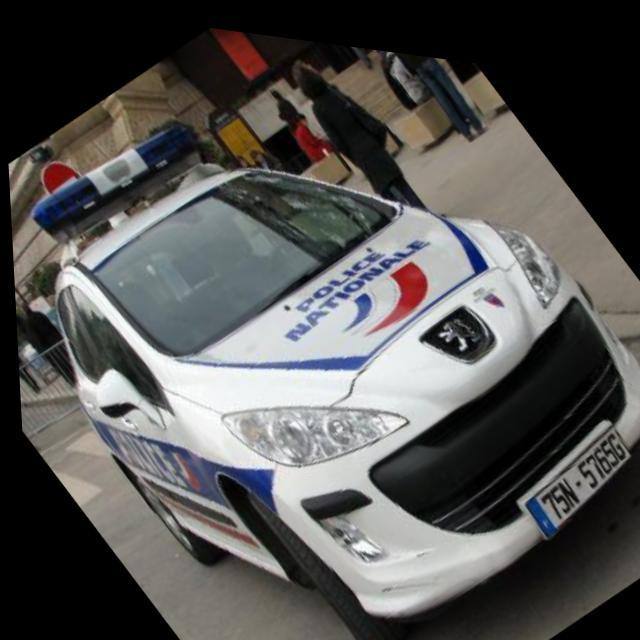license_plate: (495, 388, 640, 539)
